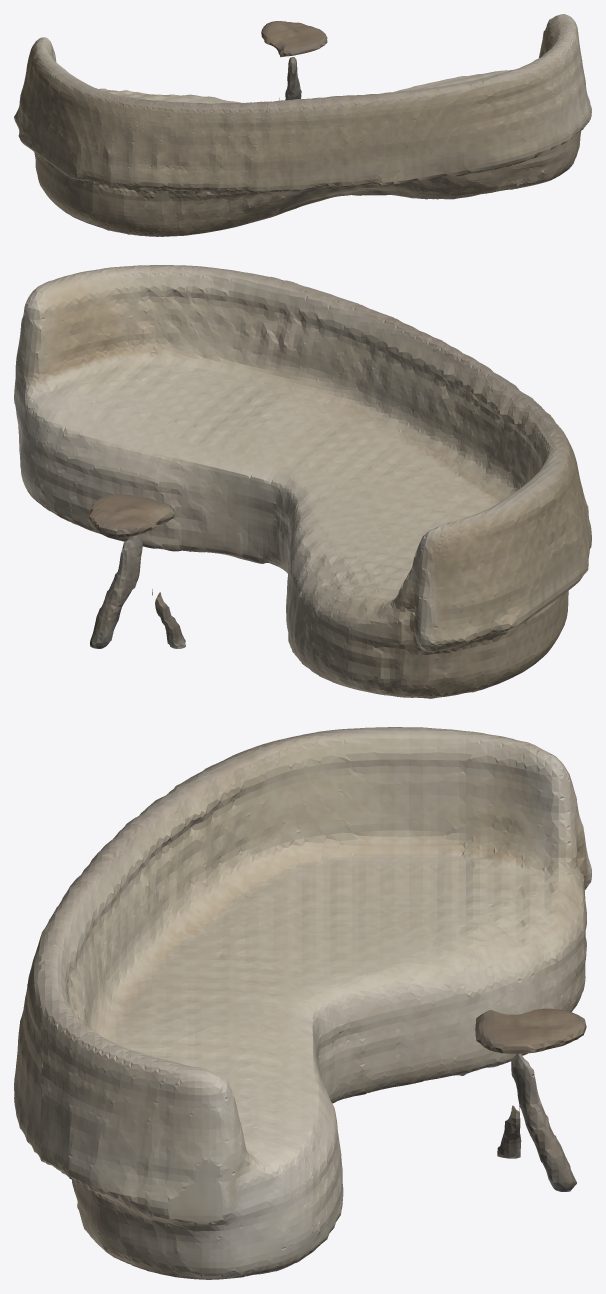
3 views of the same model, one above another, from view 1: azimuth 30°, elevation 25°; view 2: azimuth 150°, elevation 25°; view 3: azimuth 270°, elevation 25° (orthographic). The views are drawn at different scales.
Parts seen in each view (by area): view 1: world; view 2: world; view 3: world.
Part boxes in pixels (x1,y1,x2,y2): world: (14, 14, 591, 236); world: (14, 265, 591, 698); world: (14, 727, 591, 1279).
Bounding box in the file's own units: 1.97 × 0.6391 × 1.33.
